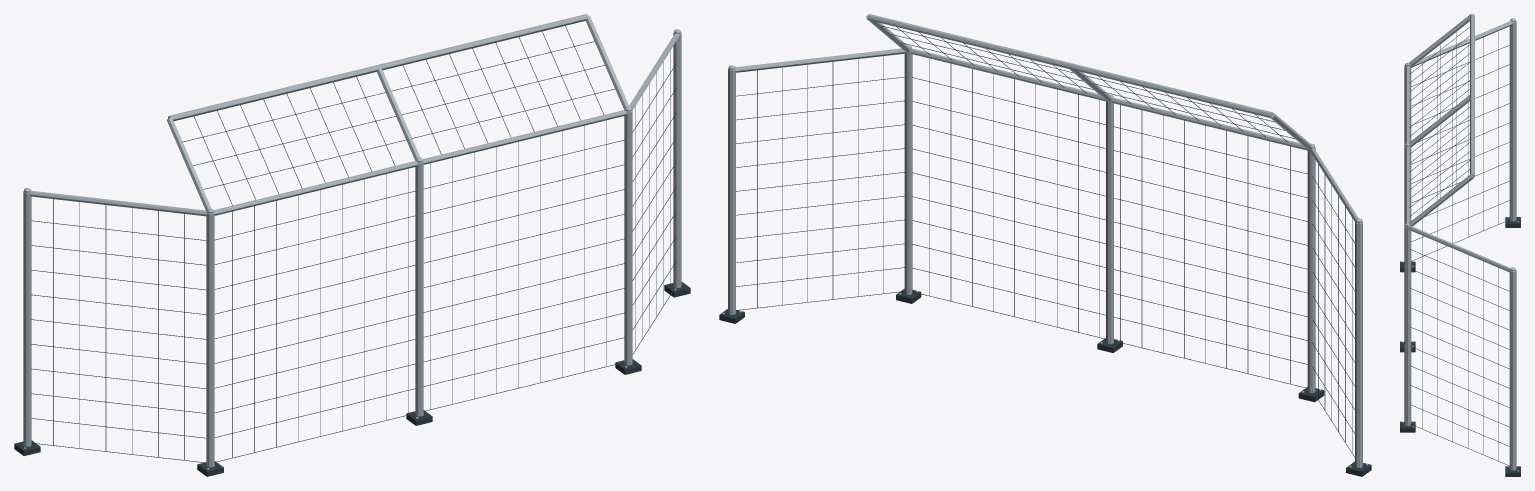
File: b09_baseball_backstop.glb
The picture shows the model from 3 angles, left to right: view 1: azimuth 30°, elevation 25°; view 2: azimuth 150°, elevation 25°; view 3: azimuth 270°, elevation 25°; orthographic projection. The views are drawn at different scales.
Visible parts, largest first — view 1: b09_baseball_backstop; view 2: b09_baseball_backstop; view 3: b09_baseball_backstop.
Boxes of the visible parts, x1,y1,x2,y2 form: b09_baseball_backstop: [14, 14, 690, 476]; b09_baseball_backstop: [719, 14, 1371, 476]; b09_baseball_backstop: [1400, 14, 1520, 476].
Size of the model in its own units: 8.62 by 4.01 by 1.72.
